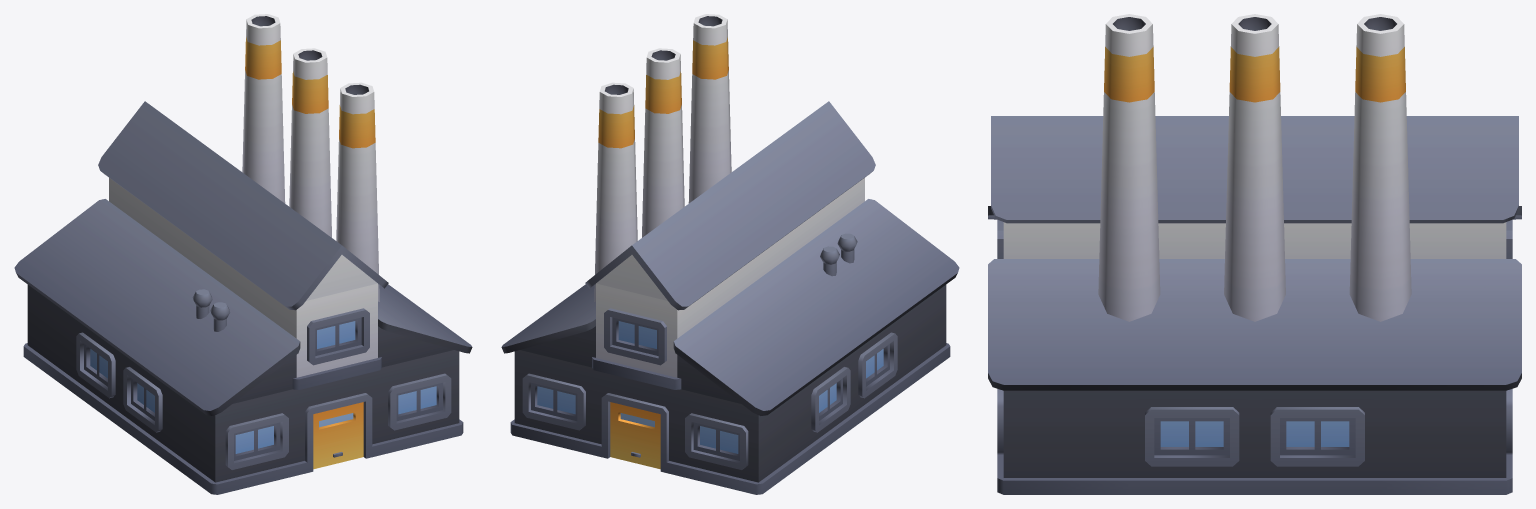
The model's file is kenney-city-industrial-building-m.glb.
3 renders of one model, left to right at view 1: azimuth 30°, elevation 25°; view 2: azimuth 150°, elevation 25°; view 3: azimuth 270°, elevation 25°, orthographic. The views are drawn at different scales.
Parts seen in each view (by area): view 1: building-m; view 2: building-m; view 3: building-m.
Part boxes in pixels (x1,y1,x2,y2): building-m: (14,14,472,494); building-m: (501,14,959,494); building-m: (988,14,1521,494).
Size of the model in its own units: 1.32 by 1.52 by 1.7.
1 material, 1 textured.
